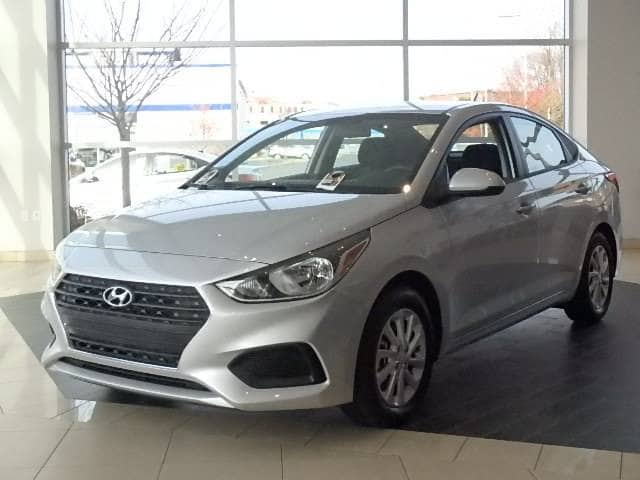accent: (29, 86, 640, 439)
